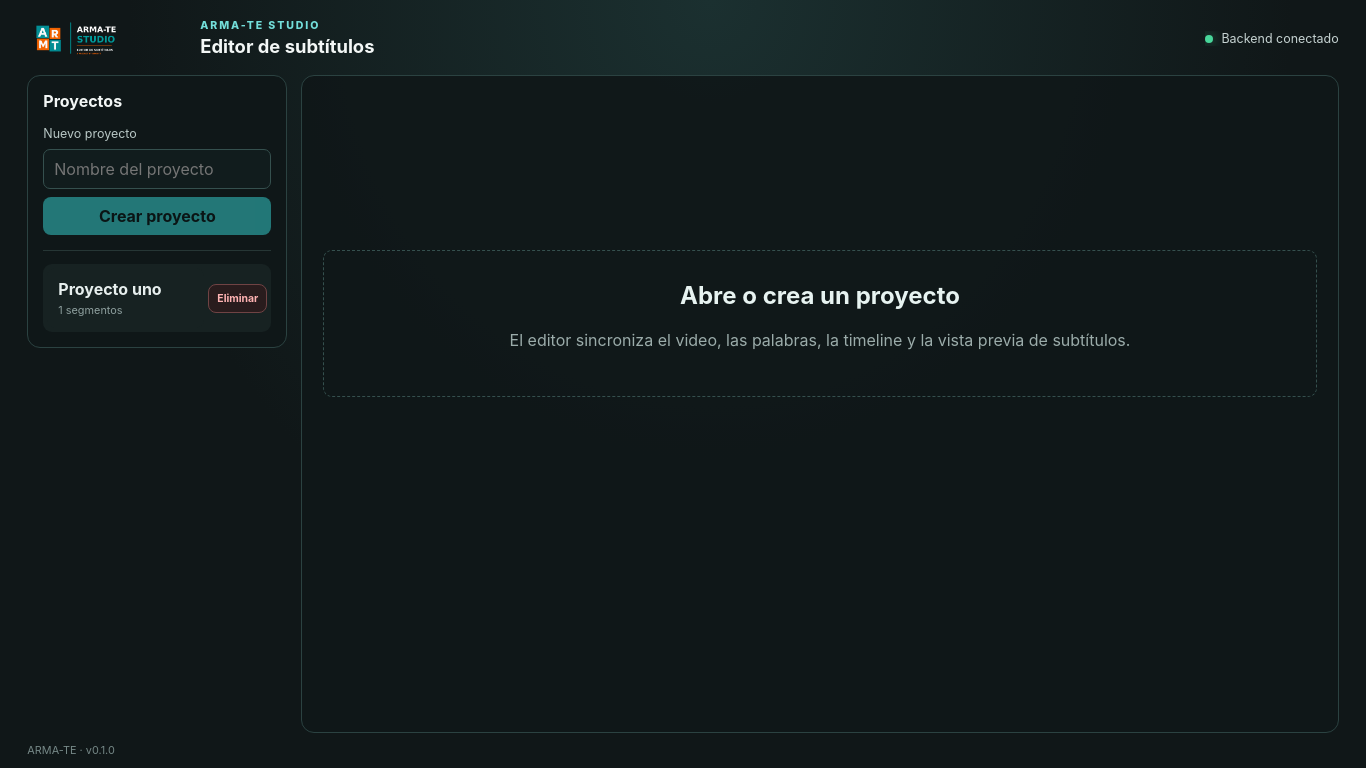
it: application persistence boundaries › confirms audio deletion and refreshes audio metadata and transcript state
The image size is (1366, 768).
Expected: the text "Backend conectado" is shown, x1=1205 y1=30 x2=1339 y2=46
Click the button "Proyecto uno 1 segmentos" at (126, 298), box x1=47 y1=268 x2=204 y2=328
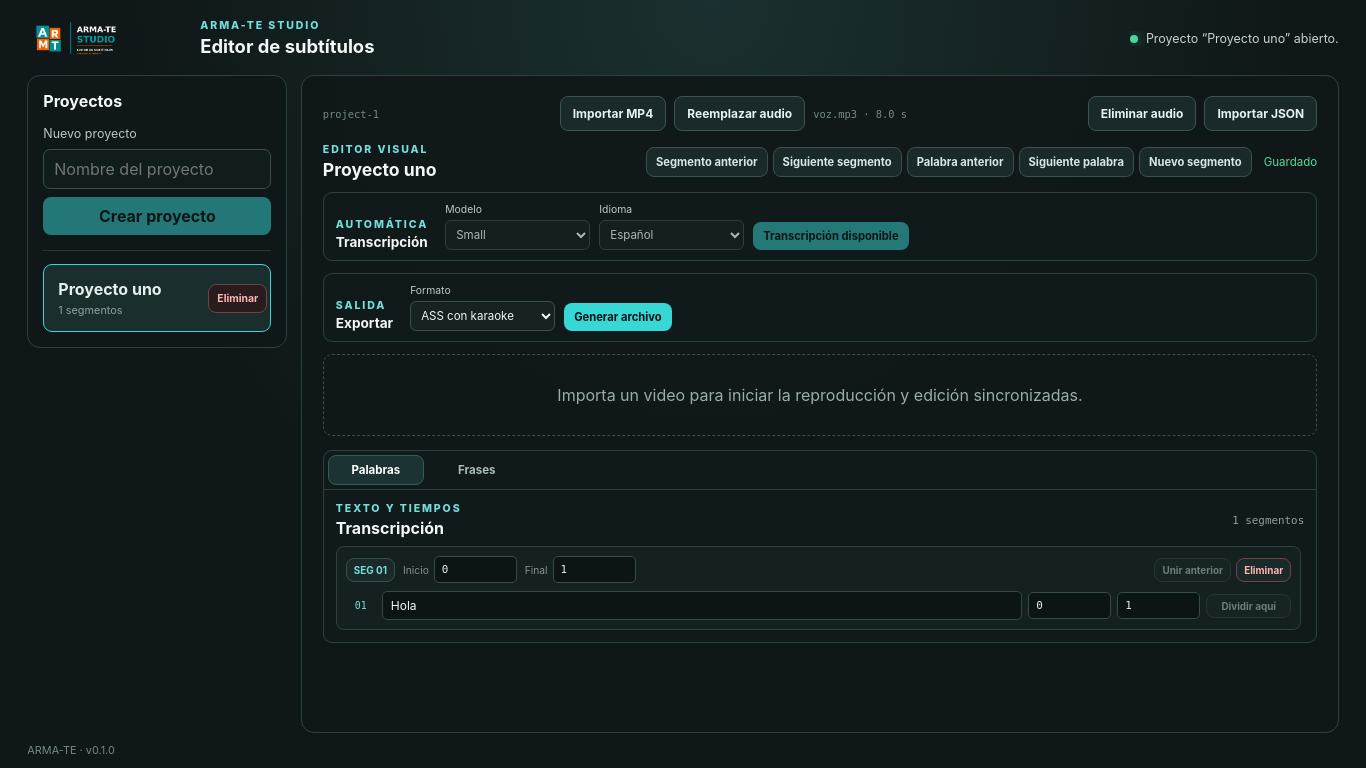
Click the button "Eliminar audio" at (1142, 114), box x1=1088 y1=96 x2=1196 y2=132
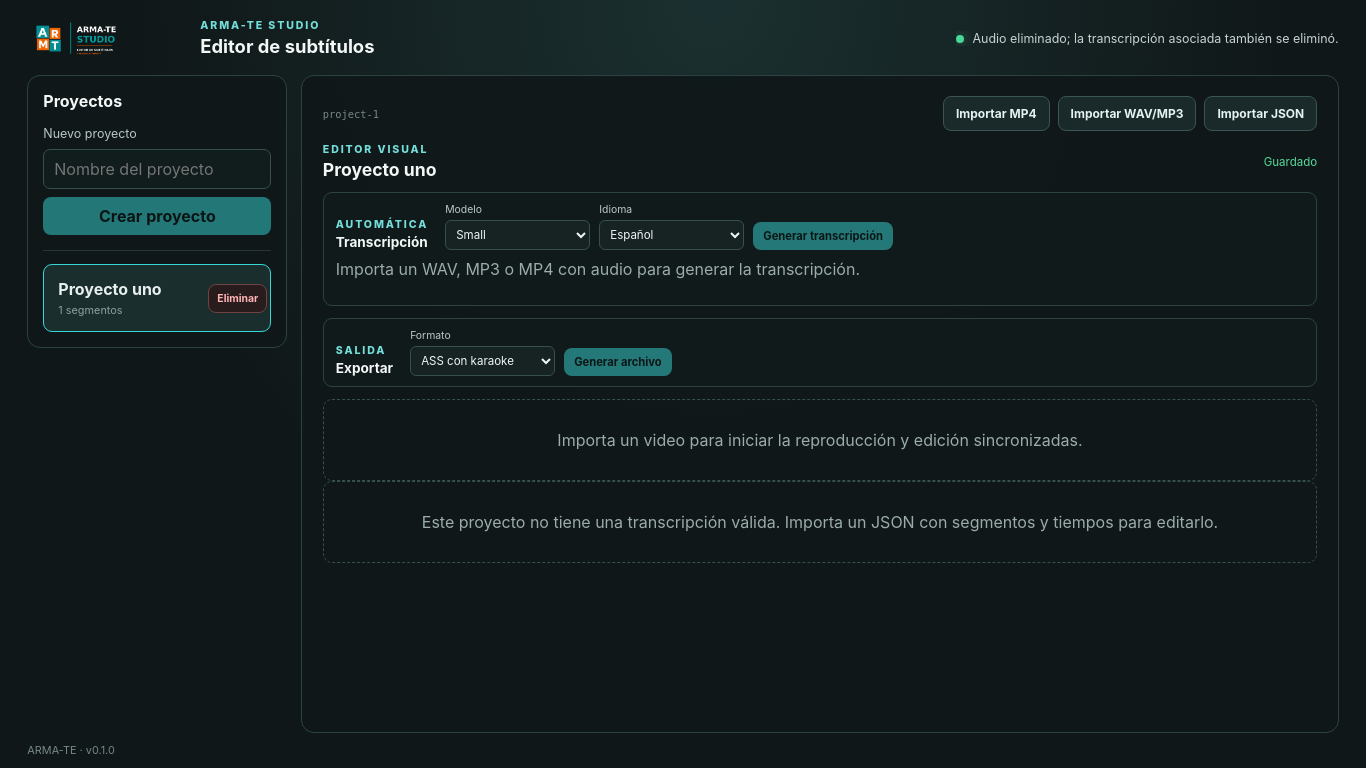
Expected: the file field labelled "Importar WAV/MP3" is shown, x1=1058 y1=96 x2=1196 y2=132
Expected: the text "voz.mp3 · 8.0 s" is gone
Expected: the text "no tiene una transcripci" is shown, x1=422 y1=512 x2=1218 y2=532
